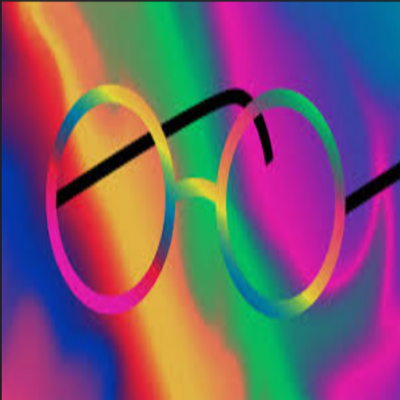glasses: (41, 71, 400, 344)
